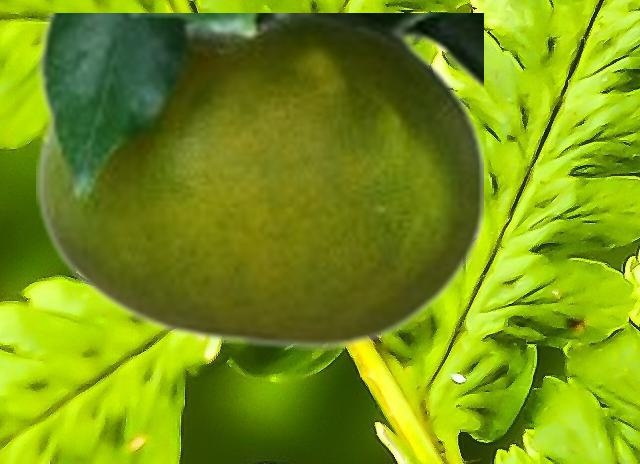dalandan: (36, 13, 482, 349)
